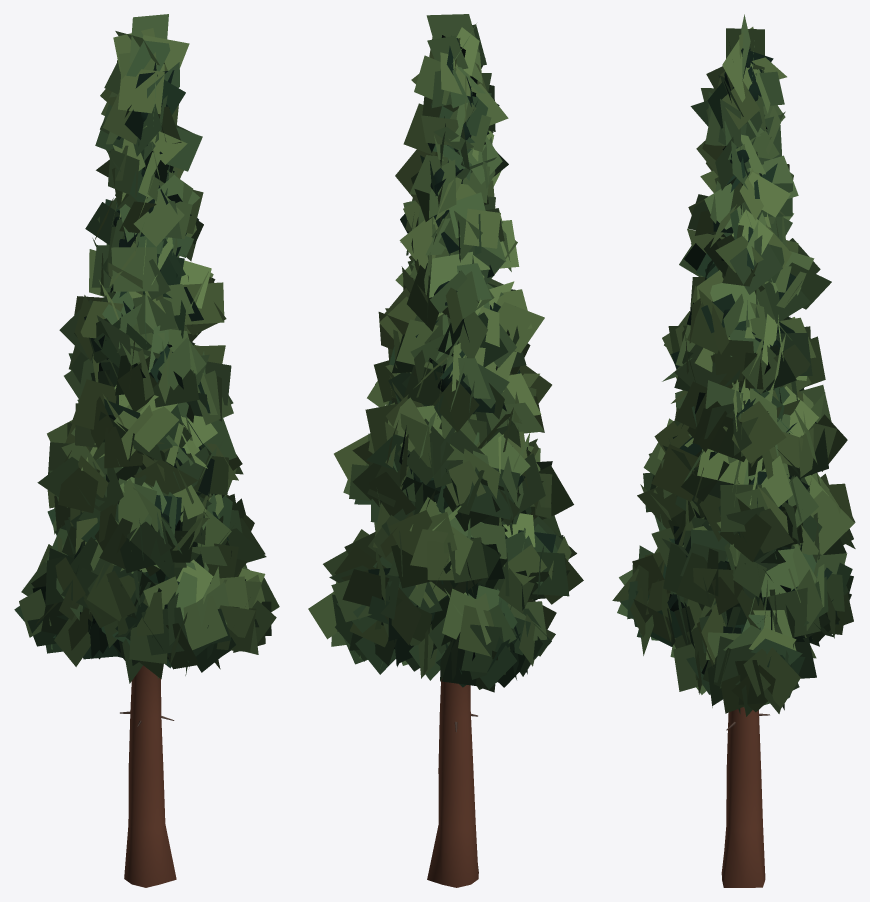
The model's file is Cedar.fbx.
3 renders of one model, left to right at view 1: azimuth 30°, elevation 25°; view 2: azimuth 150°, elevation 25°; view 3: azimuth 270°, elevation 25°, orthographic.
Visible parts, largest first — view 1: Cedar; view 2: Cedar; view 3: Cedar.
Part boxes in pixels (x1,y1,x2,y2): Cedar: [14, 14, 279, 887]; Cedar: [308, 14, 583, 887]; Cedar: [612, 14, 855, 887].
Bounding box in the file's own units: 5.21 × 18.78 × 4.83.
